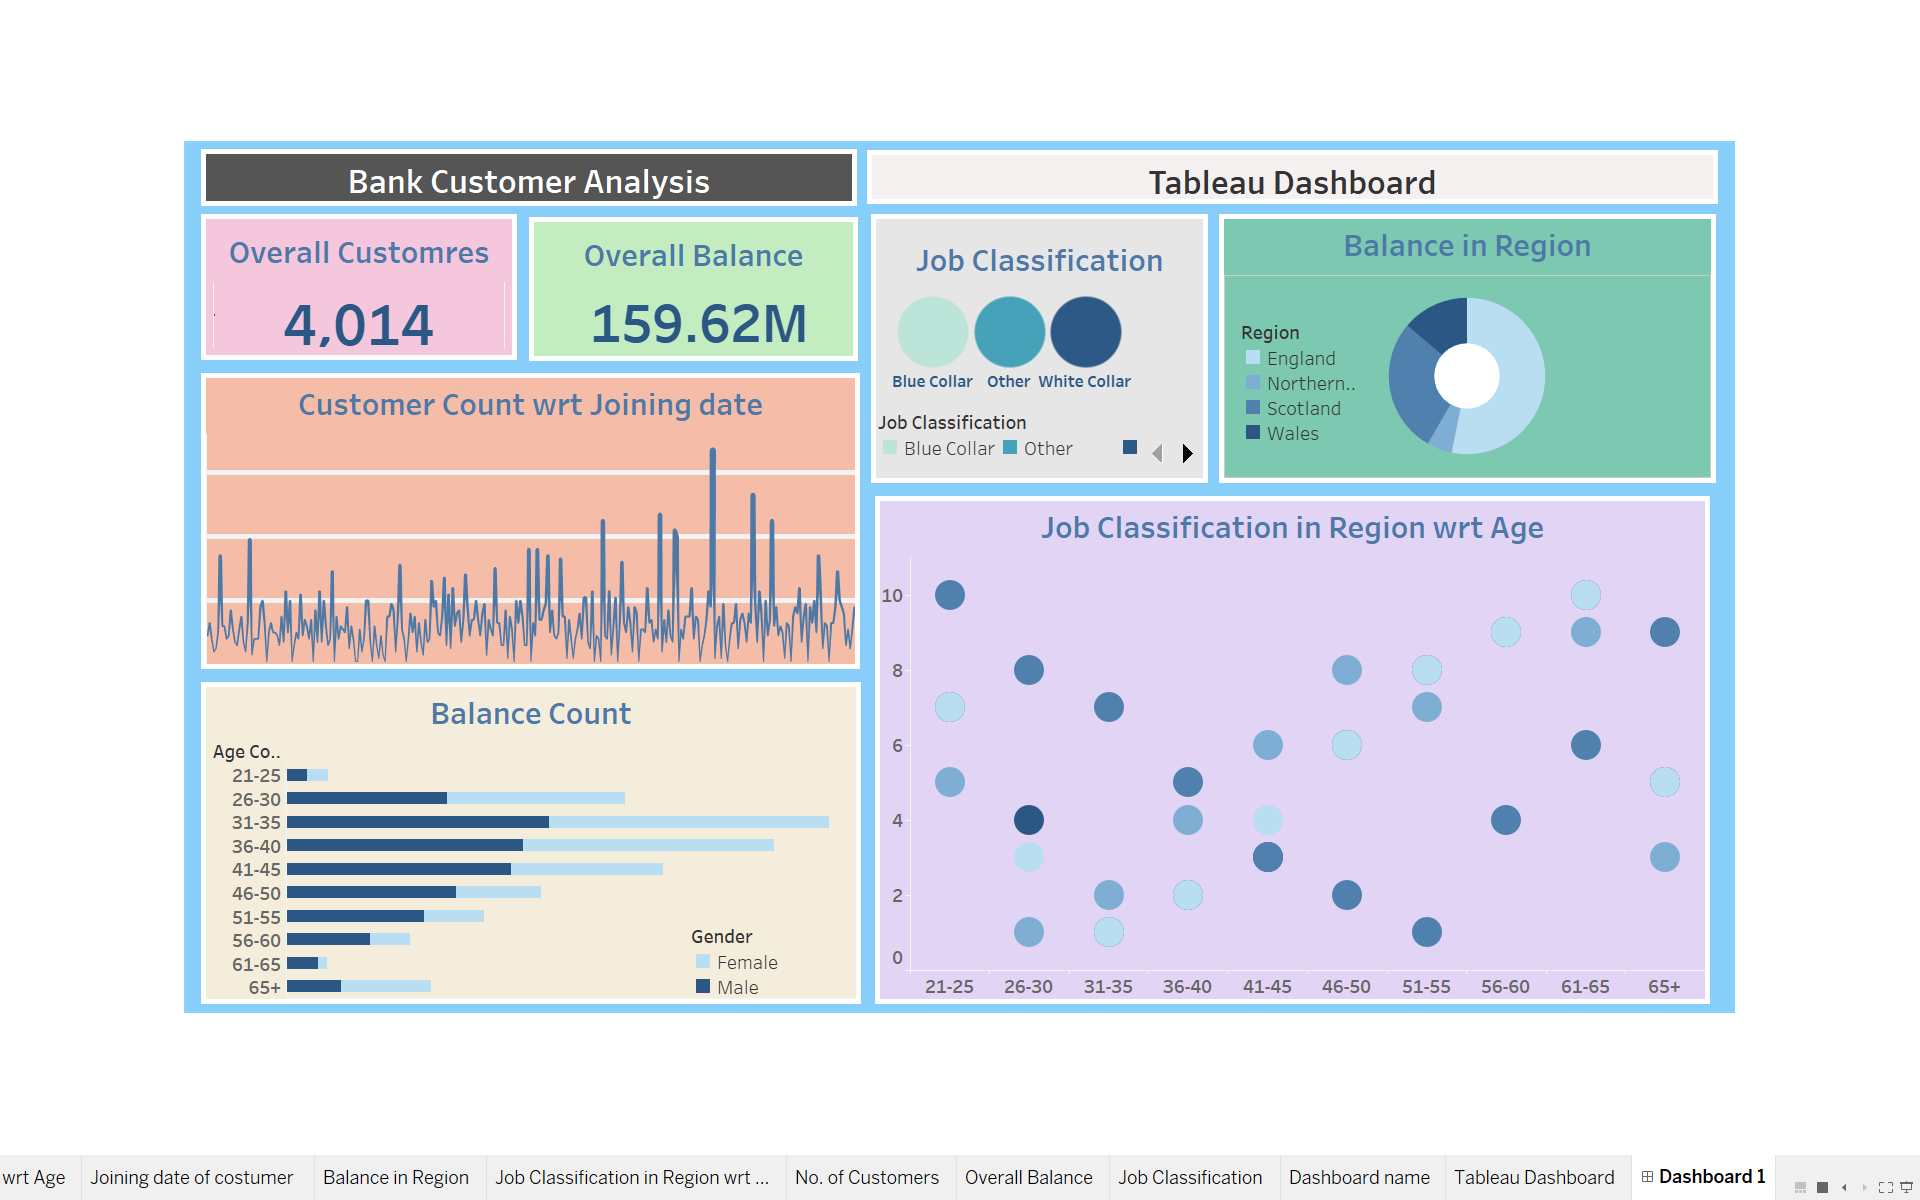

Layout of this report page (visuals, bound fields, positions):
{"tool":"tableau","page":{"name":"Dashboard 1","canvas":[1575,900],"ordinal":0},"visuals":[{"type":"image","param":"C:/Users/Dell/Desktop/background/R.jpeg","box":[8,8,1559,884]},{"type":"worksheet","title":"Dashboard name","mark":"Automatic","box":[29,22,656,57]},{"type":"worksheet","title":"Tableau Dashboard","mark":"Text","box":[695,23,851,54]},{"type":"worksheet","title":"No. of Customers","mark":"GanttBar","box":[29,87,316,146]},{"type":"worksheet","title":"Job Classification","mark":"Shape","box":[699,87,337,269]},{"type":"worksheet","title":"Balance in Region","mark":"Pie","cols":["Calculation_1887852722385768450","Calculation_1887852722385825796"],"box":[1047,87,497,269]},{"type":"worksheet","title":"Overall Balance","mark":"Automatic","box":[357,90,329,144]},{"type":"legend","title":"Balance in Region","param":"[federated.0epcw7k12wjdlw141r7o819tabe4].[none:Region:nk]","box":[1069,192,122,126]},{"type":"worksheet","title":"Joining date of costumer","mark":"Line","rows":["Name"],"cols":["Date Joined"],"box":[29,246,659,296]},{"type":"legend","title":"Job Classification","param":"[federated.0epcw7k12wjdlw141r7o819tabe4].[none:Job Classification:nk]","box":[706,282,326,63]},{"type":"worksheet","title":"Job Classification in Region wrt Age","mark":"Circle","rows":["Job Classification"],"cols":["Age (copy)_1938799692956180480"],"box":[703,369,835,508]},{"type":"worksheet","title":"Balance wrt Age","mark":"Bar","rows":["Age (copy)_1938799692956180480"],"cols":["Balance"],"box":[29,555,660,322]},{"type":"legend","title":"Balance wrt Age","param":"[federated.0epcw7k12wjdlw141r7o819tabe4].[none:Gender:nk]","box":[519,796,140,76]}]}

Visuals, with their boxes on the page's 1575x900 design canvas (x1, y1, x2, y2). These are canvas units, not pixel positions in the 1920x1200 screenshot, which may show the page scaled, cropped or inside an application window:
image: pyautogui.locateOnScreen(8, 8, 1567, 892)
"Dashboard name" worksheet: pyautogui.locateOnScreen(29, 22, 685, 79)
"Tableau Dashboard" worksheet (Text marks): pyautogui.locateOnScreen(695, 23, 1546, 77)
"No. of Customers" worksheet (GanttBar marks): pyautogui.locateOnScreen(29, 87, 345, 233)
"Job Classification" worksheet (Shape marks): pyautogui.locateOnScreen(699, 87, 1036, 356)
"Balance in Region" worksheet (Pie marks): pyautogui.locateOnScreen(1047, 87, 1544, 356)
"Overall Balance" worksheet: pyautogui.locateOnScreen(357, 90, 686, 234)
"Balance in Region" legend: pyautogui.locateOnScreen(1069, 192, 1191, 318)
"Joining date of costumer" worksheet (Line marks): pyautogui.locateOnScreen(29, 246, 688, 542)
"Job Classification" legend: pyautogui.locateOnScreen(706, 282, 1032, 345)
"Job Classification in Region wrt Age" worksheet (Circle marks): pyautogui.locateOnScreen(703, 369, 1538, 877)
"Balance wrt Age" worksheet (Bar marks): pyautogui.locateOnScreen(29, 555, 689, 877)
"Balance wrt Age" legend: pyautogui.locateOnScreen(519, 796, 659, 872)
